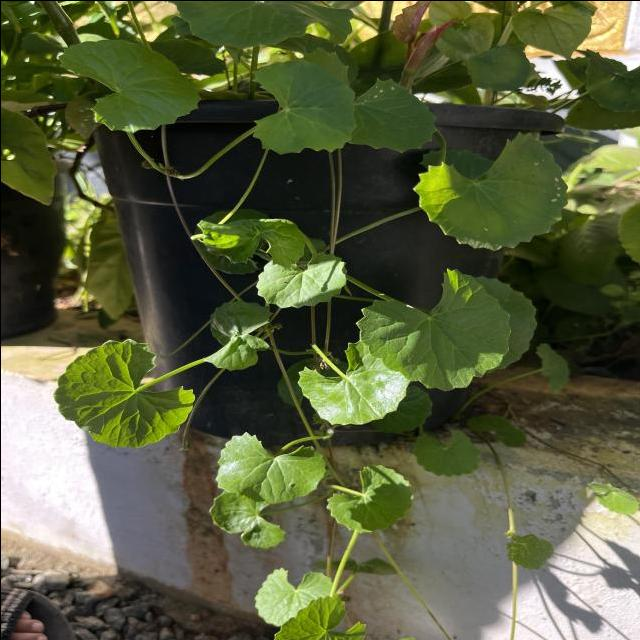Centella asiatica: (352, 265, 512, 393), (407, 128, 570, 252), (49, 335, 197, 448), (55, 36, 204, 136), (247, 54, 358, 156), (294, 338, 410, 427), (212, 428, 330, 506), (344, 74, 440, 154), (252, 248, 350, 310)
